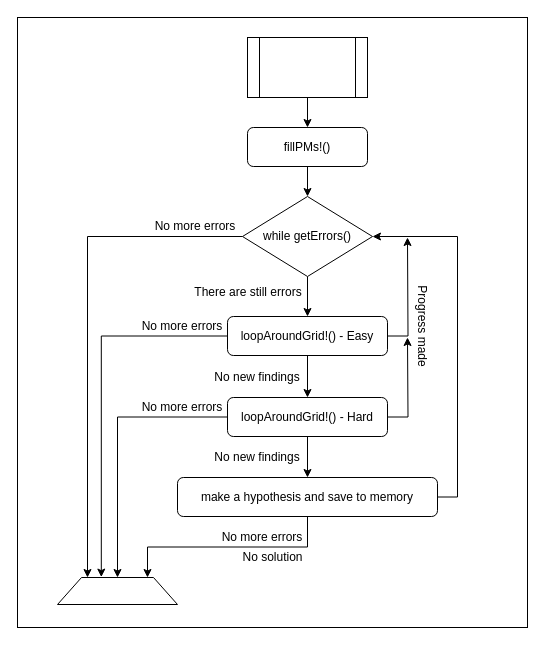
The diagram is 545 pixels wide and 645 high, and some of its shapes have lost their labels. Here are the shapes that lost their labels. From the top down, the centre of each, then its label:
At point 307,67: "mainSolver()".
At point 117,590: "return".
